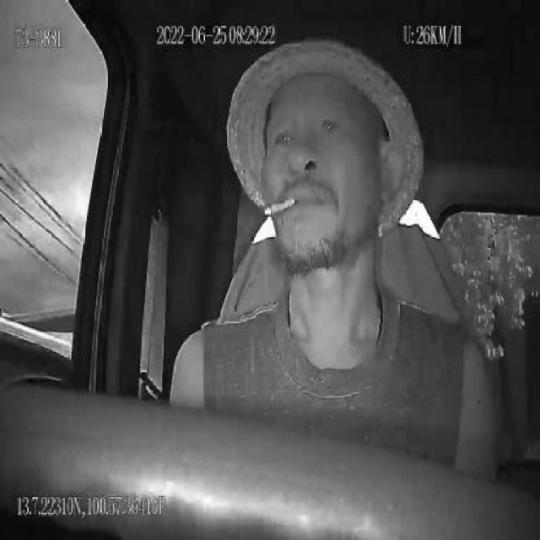smoking: (263, 195, 298, 220)
